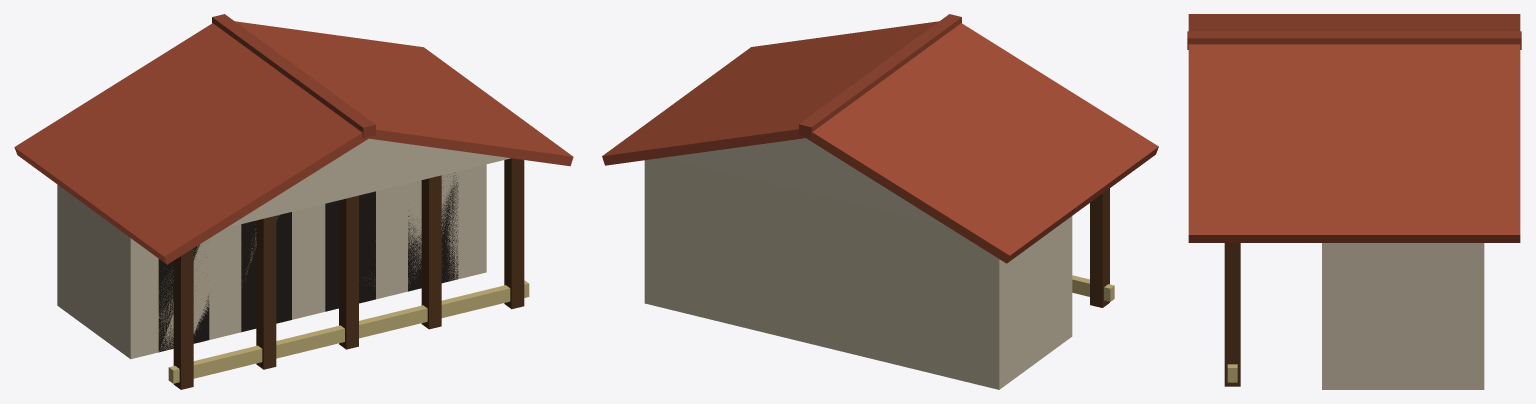
The model's file is centaur_house_a_broken.glb.
The picture shows the model from 3 angles, left to right: view 1: azimuth 30°, elevation 25°; view 2: azimuth 150°, elevation 25°; view 3: azimuth 270°, elevation 25°; orthographic projection. The views are drawn at different scales.
Visible parts, largest first — view 1: centaur_house_a_piece7, centaur_house_a_piece2, centaur_house_a_piece8, centaur_house_a_piece1, centaur_house_a_piece9, centaur_house_a_piece5, centaur_house_a_piece11, centaur_house_a_piece10, centaur_house_a_piece6, centaur_house_a_piece3, centaur_house_a_piece4, centaur_house_a_piece12 (+1 smaller); view 2: centaur_house_a_piece4, centaur_house_a_piece3, centaur_house_a_piece7, centaur_house_a_piece8, centaur_house_a_piece5, centaur_house_a_piece6, centaur_house_a_piece0, centaur_house_a_piece2, centaur_house_a_piece1, centaur_house_a_piece9, centaur_house_a_piece11; view 3: centaur_house_a_piece6, centaur_house_a_piece9, centaur_house_a_piece3, centaur_house_a_piece11, centaur_house_a_piece4, centaur_house_a_piece7, centaur_house_a_piece5, centaur_house_a_piece8, centaur_house_a_piece2, centaur_house_a_piece1.
Boxes of the visible parts, box(x1,y1,x2,y2) form: centaur_house_a_piece7: box(145, 80, 300, 309); centaur_house_a_piece2: box(96, 100, 387, 389); centaur_house_a_piece8: box(14, 116, 158, 333); centaur_house_a_piece1: box(276, 98, 495, 332); centaur_house_a_piece9: box(379, 105, 573, 309); centaur_house_a_piece5: box(47, 53, 363, 221); centaur_house_a_piece11: box(292, 80, 471, 248); centaur_house_a_piece10: box(193, 220, 358, 368); centaur_house_a_piece6: box(347, 45, 515, 114); centaur_house_a_piece3: box(208, 14, 408, 89); centaur_house_a_piece4: box(165, 26, 367, 267); centaur_house_a_piece12: box(227, 248, 381, 346); centaur_house_a_piece4: box(774, 52, 935, 369); centaur_house_a_piece3: box(617, 69, 854, 325); centaur_house_a_piece7: box(896, 62, 1158, 232); centaur_house_a_piece8: box(955, 160, 1139, 372); centaur_house_a_piece5: box(860, 53, 977, 324); centaur_house_a_piece6: box(602, 56, 862, 316); centaur_house_a_piece0: box(918, 207, 1021, 389); centaur_house_a_piece2: box(924, 14, 1114, 360); centaur_house_a_piece1: box(735, 45, 878, 347); centaur_house_a_piece9: box(694, 33, 869, 88); centaur_house_a_piece11: box(853, 21, 935, 72); centaur_house_a_piece6: box(1280, 76, 1520, 389); centaur_house_a_piece9: box(1188, 87, 1398, 389); centaur_house_a_piece3: box(1324, 31, 1521, 220); centaur_house_a_piece11: box(1188, 31, 1328, 136); centaur_house_a_piece4: box(1274, 31, 1486, 81); centaur_house_a_piece7: box(1188, 14, 1428, 32); centaur_house_a_piece5: box(1276, 18, 1520, 72); centaur_house_a_piece8: box(1234, 14, 1520, 25); centaur_house_a_piece2: box(1187, 28, 1269, 56); centaur_house_a_piece1: box(1243, 74, 1300, 96).
Size of the model in its own units: 3.22 by 1.76 by 2.06.
